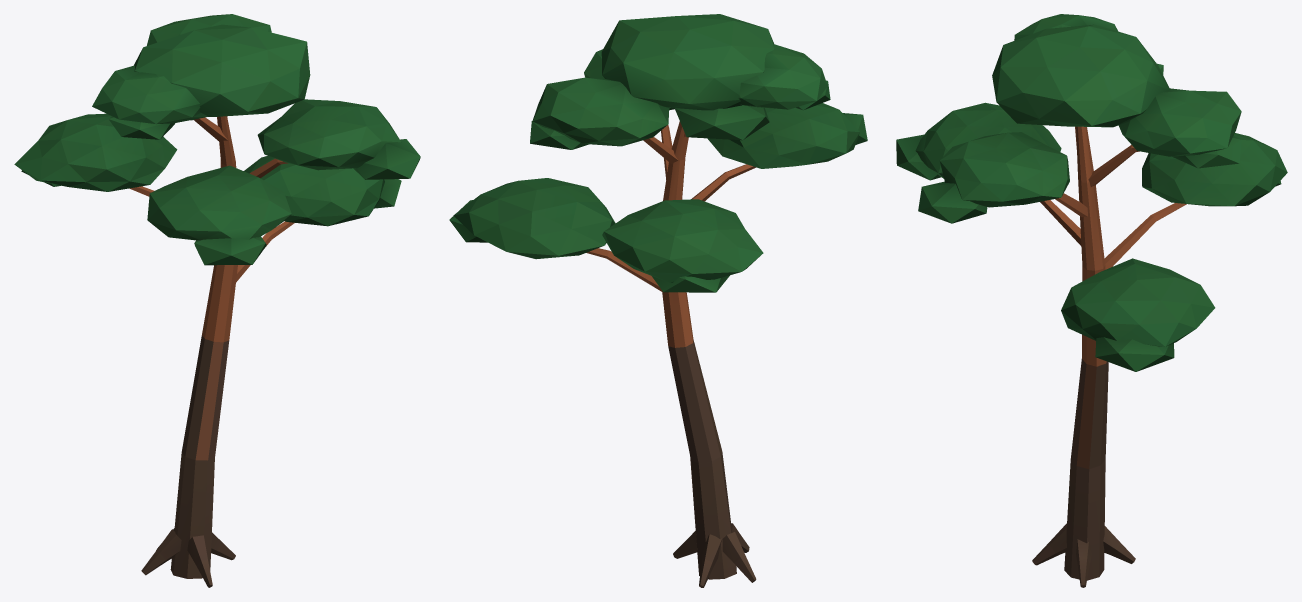
The model's file is tree_big_pine.glb.
3 views of the same model, side by side, from view 1: azimuth 30°, elevation 25°; view 2: azimuth 150°, elevation 25°; view 3: azimuth 270°, elevation 25° (orthographic). The views are drawn at different scales.
Bounding box in the file's own units: 8.64 × 13.05 × 8.58.
